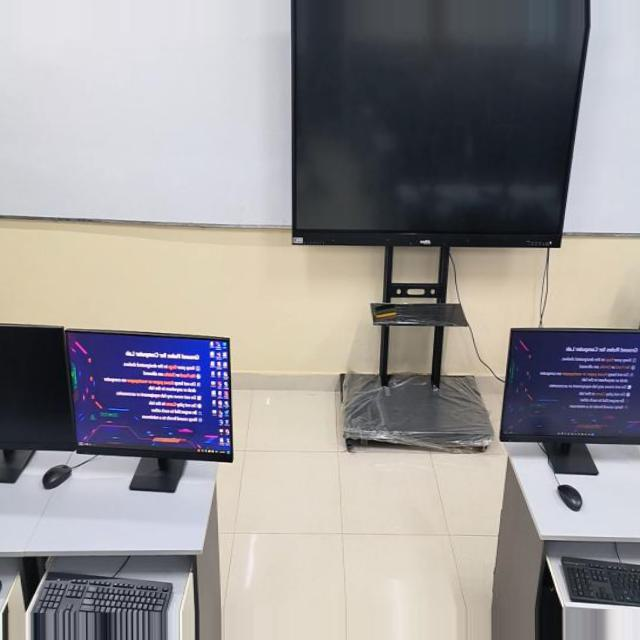Chair: (0, 261, 48, 332)
Digital board: (89, 0, 342, 299)
Keyboard: (0, 581, 116, 639), (447, 595, 566, 639), (592, 603, 640, 639)
Monitor: (395, 330, 534, 472), (23, 331, 167, 459), (528, 321, 640, 461), (0, 325, 38, 464)
Mouse: (533, 476, 557, 504), (98, 503, 119, 531), (0, 472, 12, 497)
